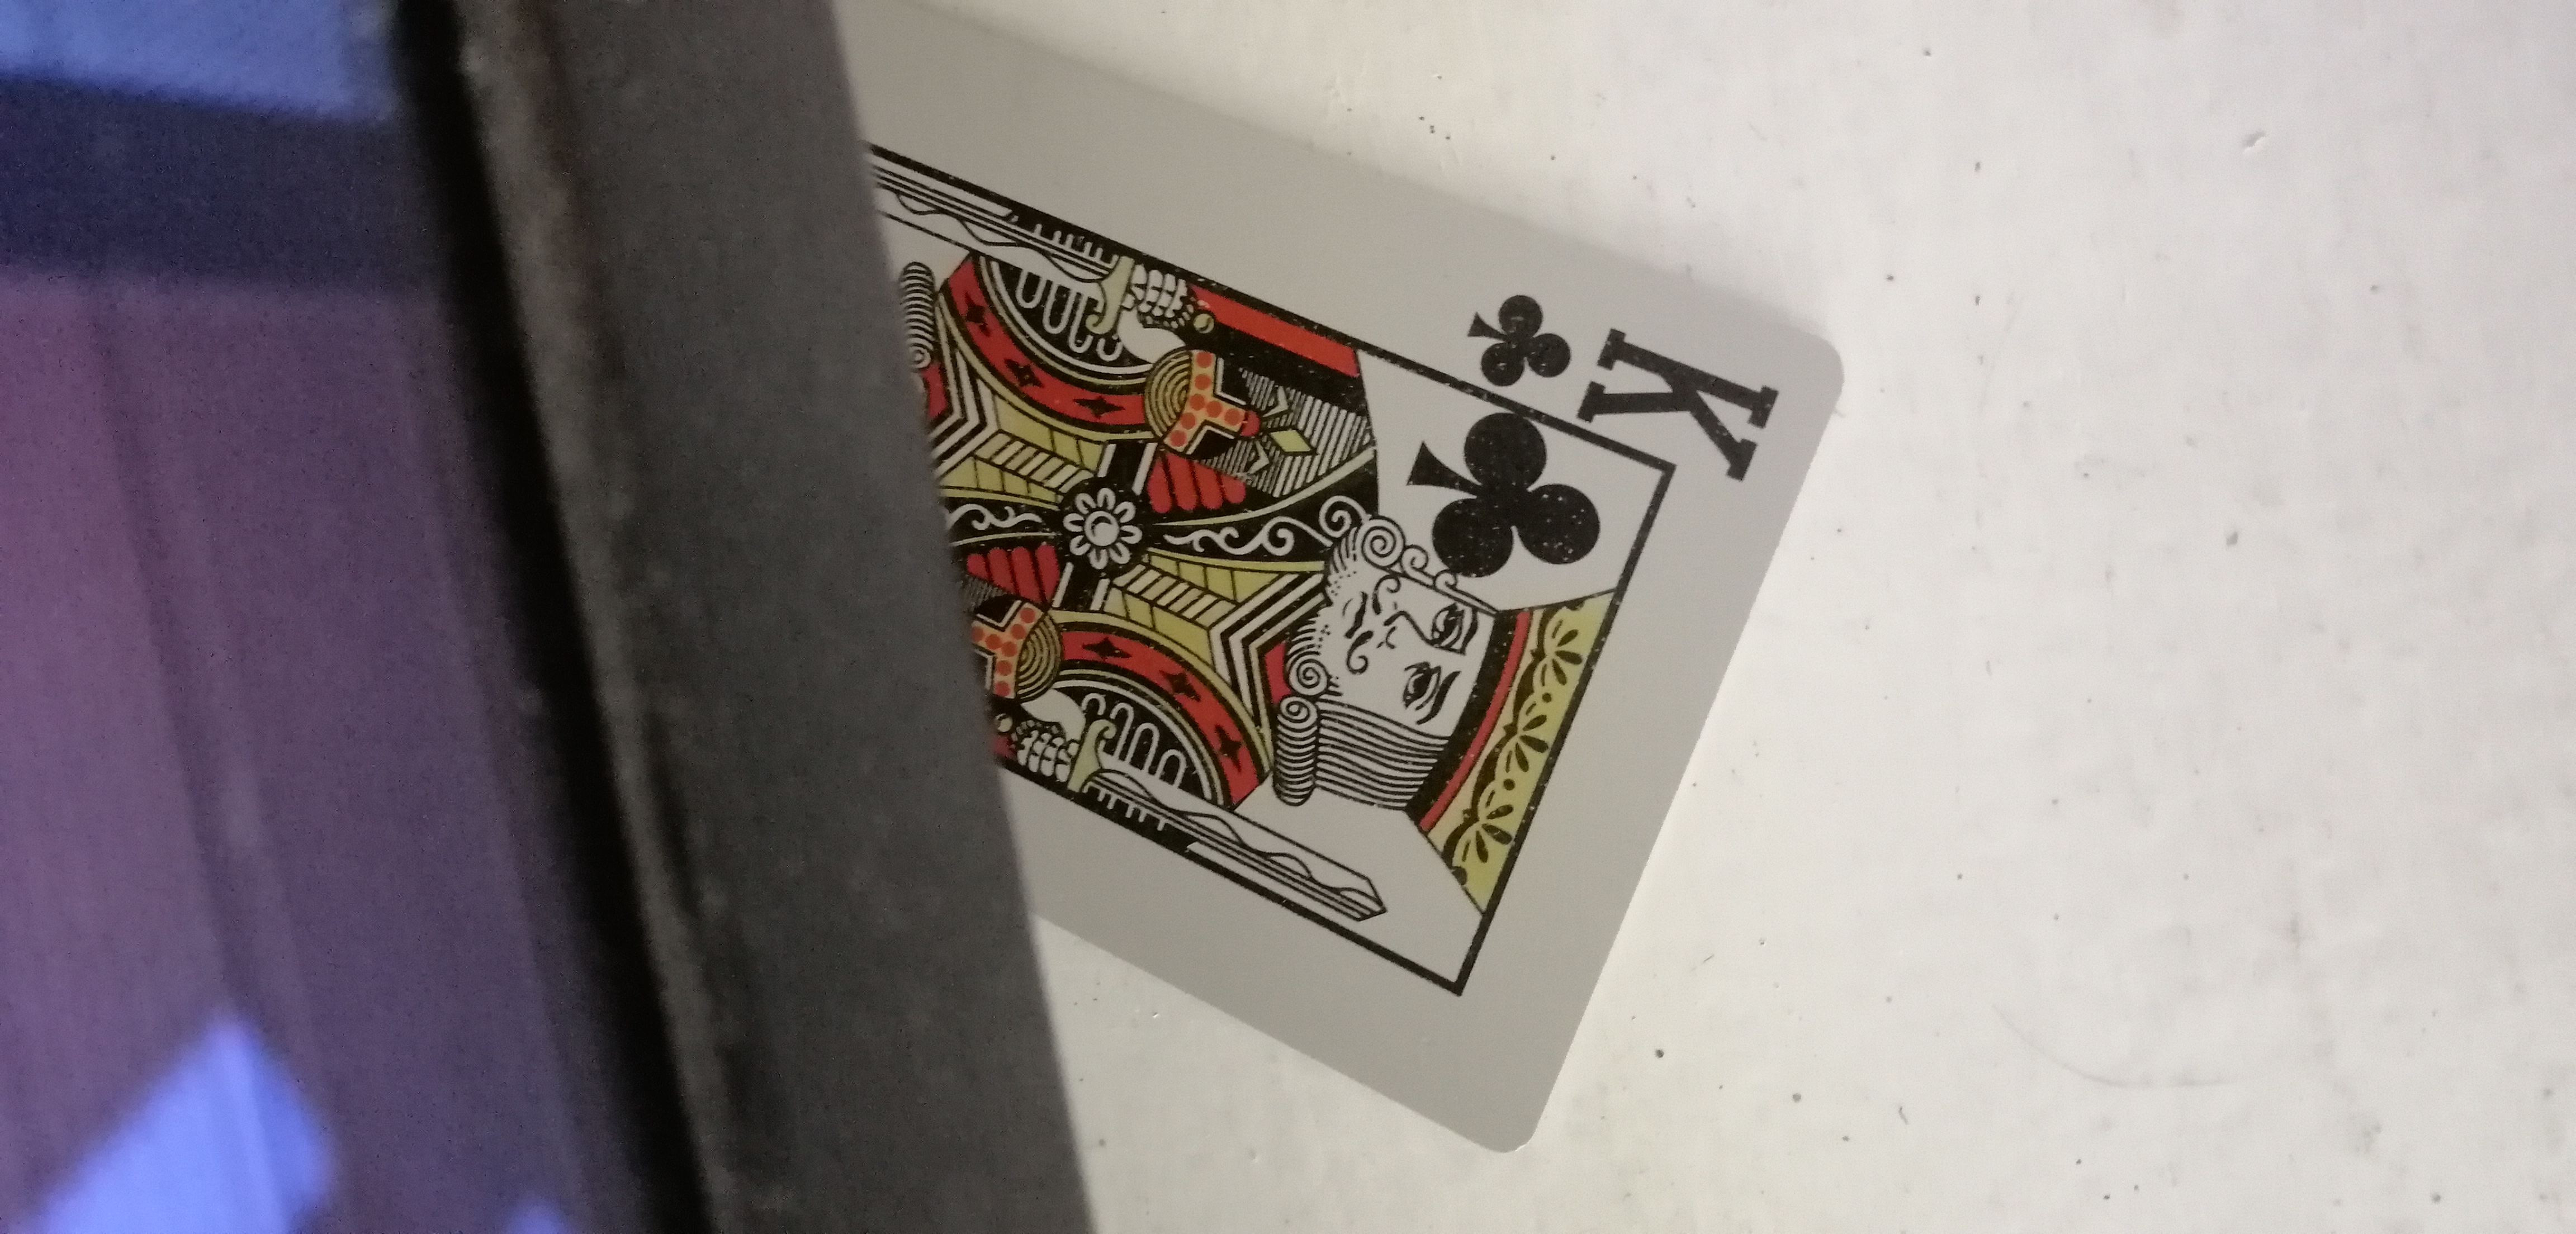king: (792, 20, 1845, 1093)
